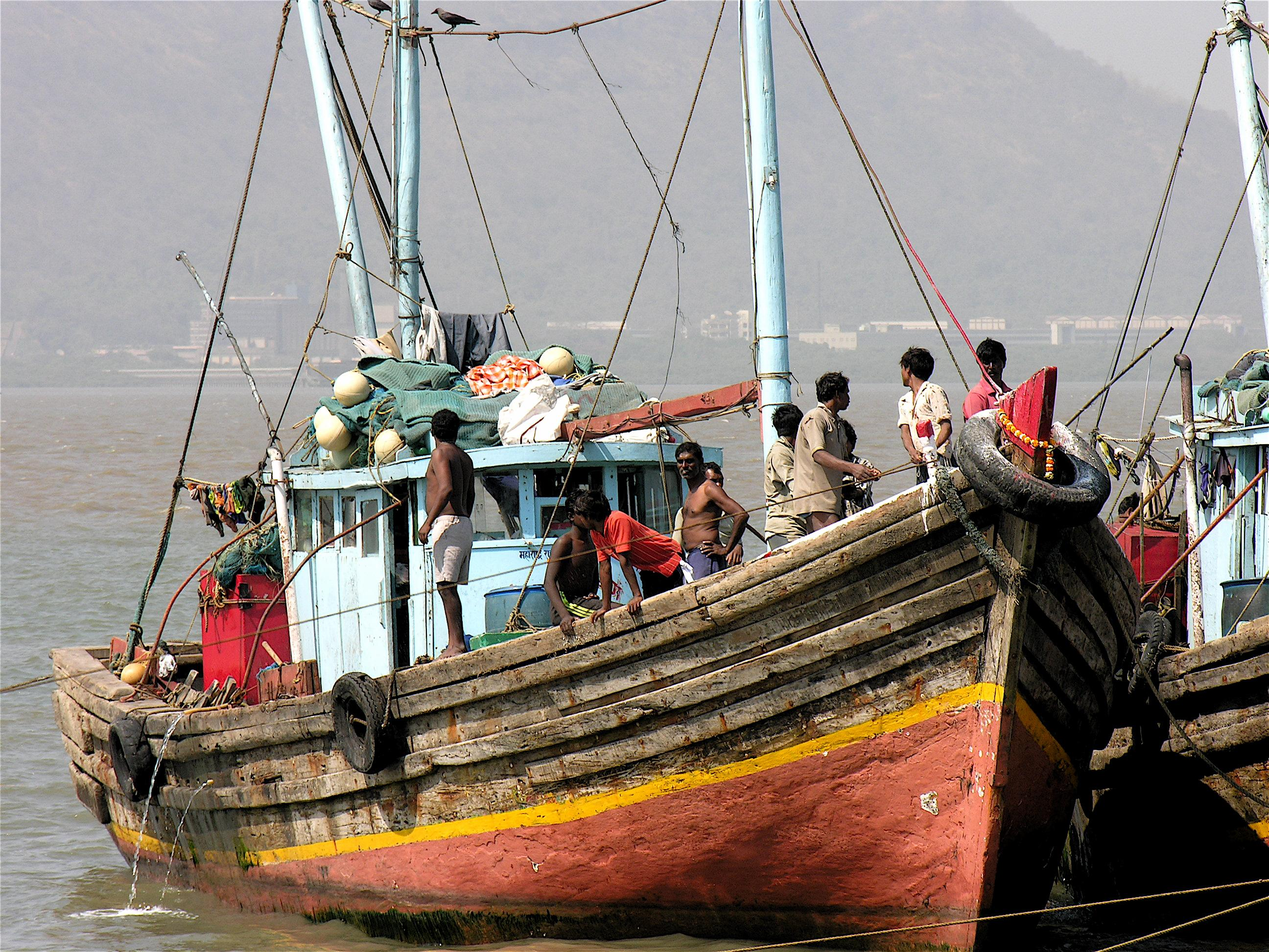fishing boat: (42, 0, 1152, 951)
